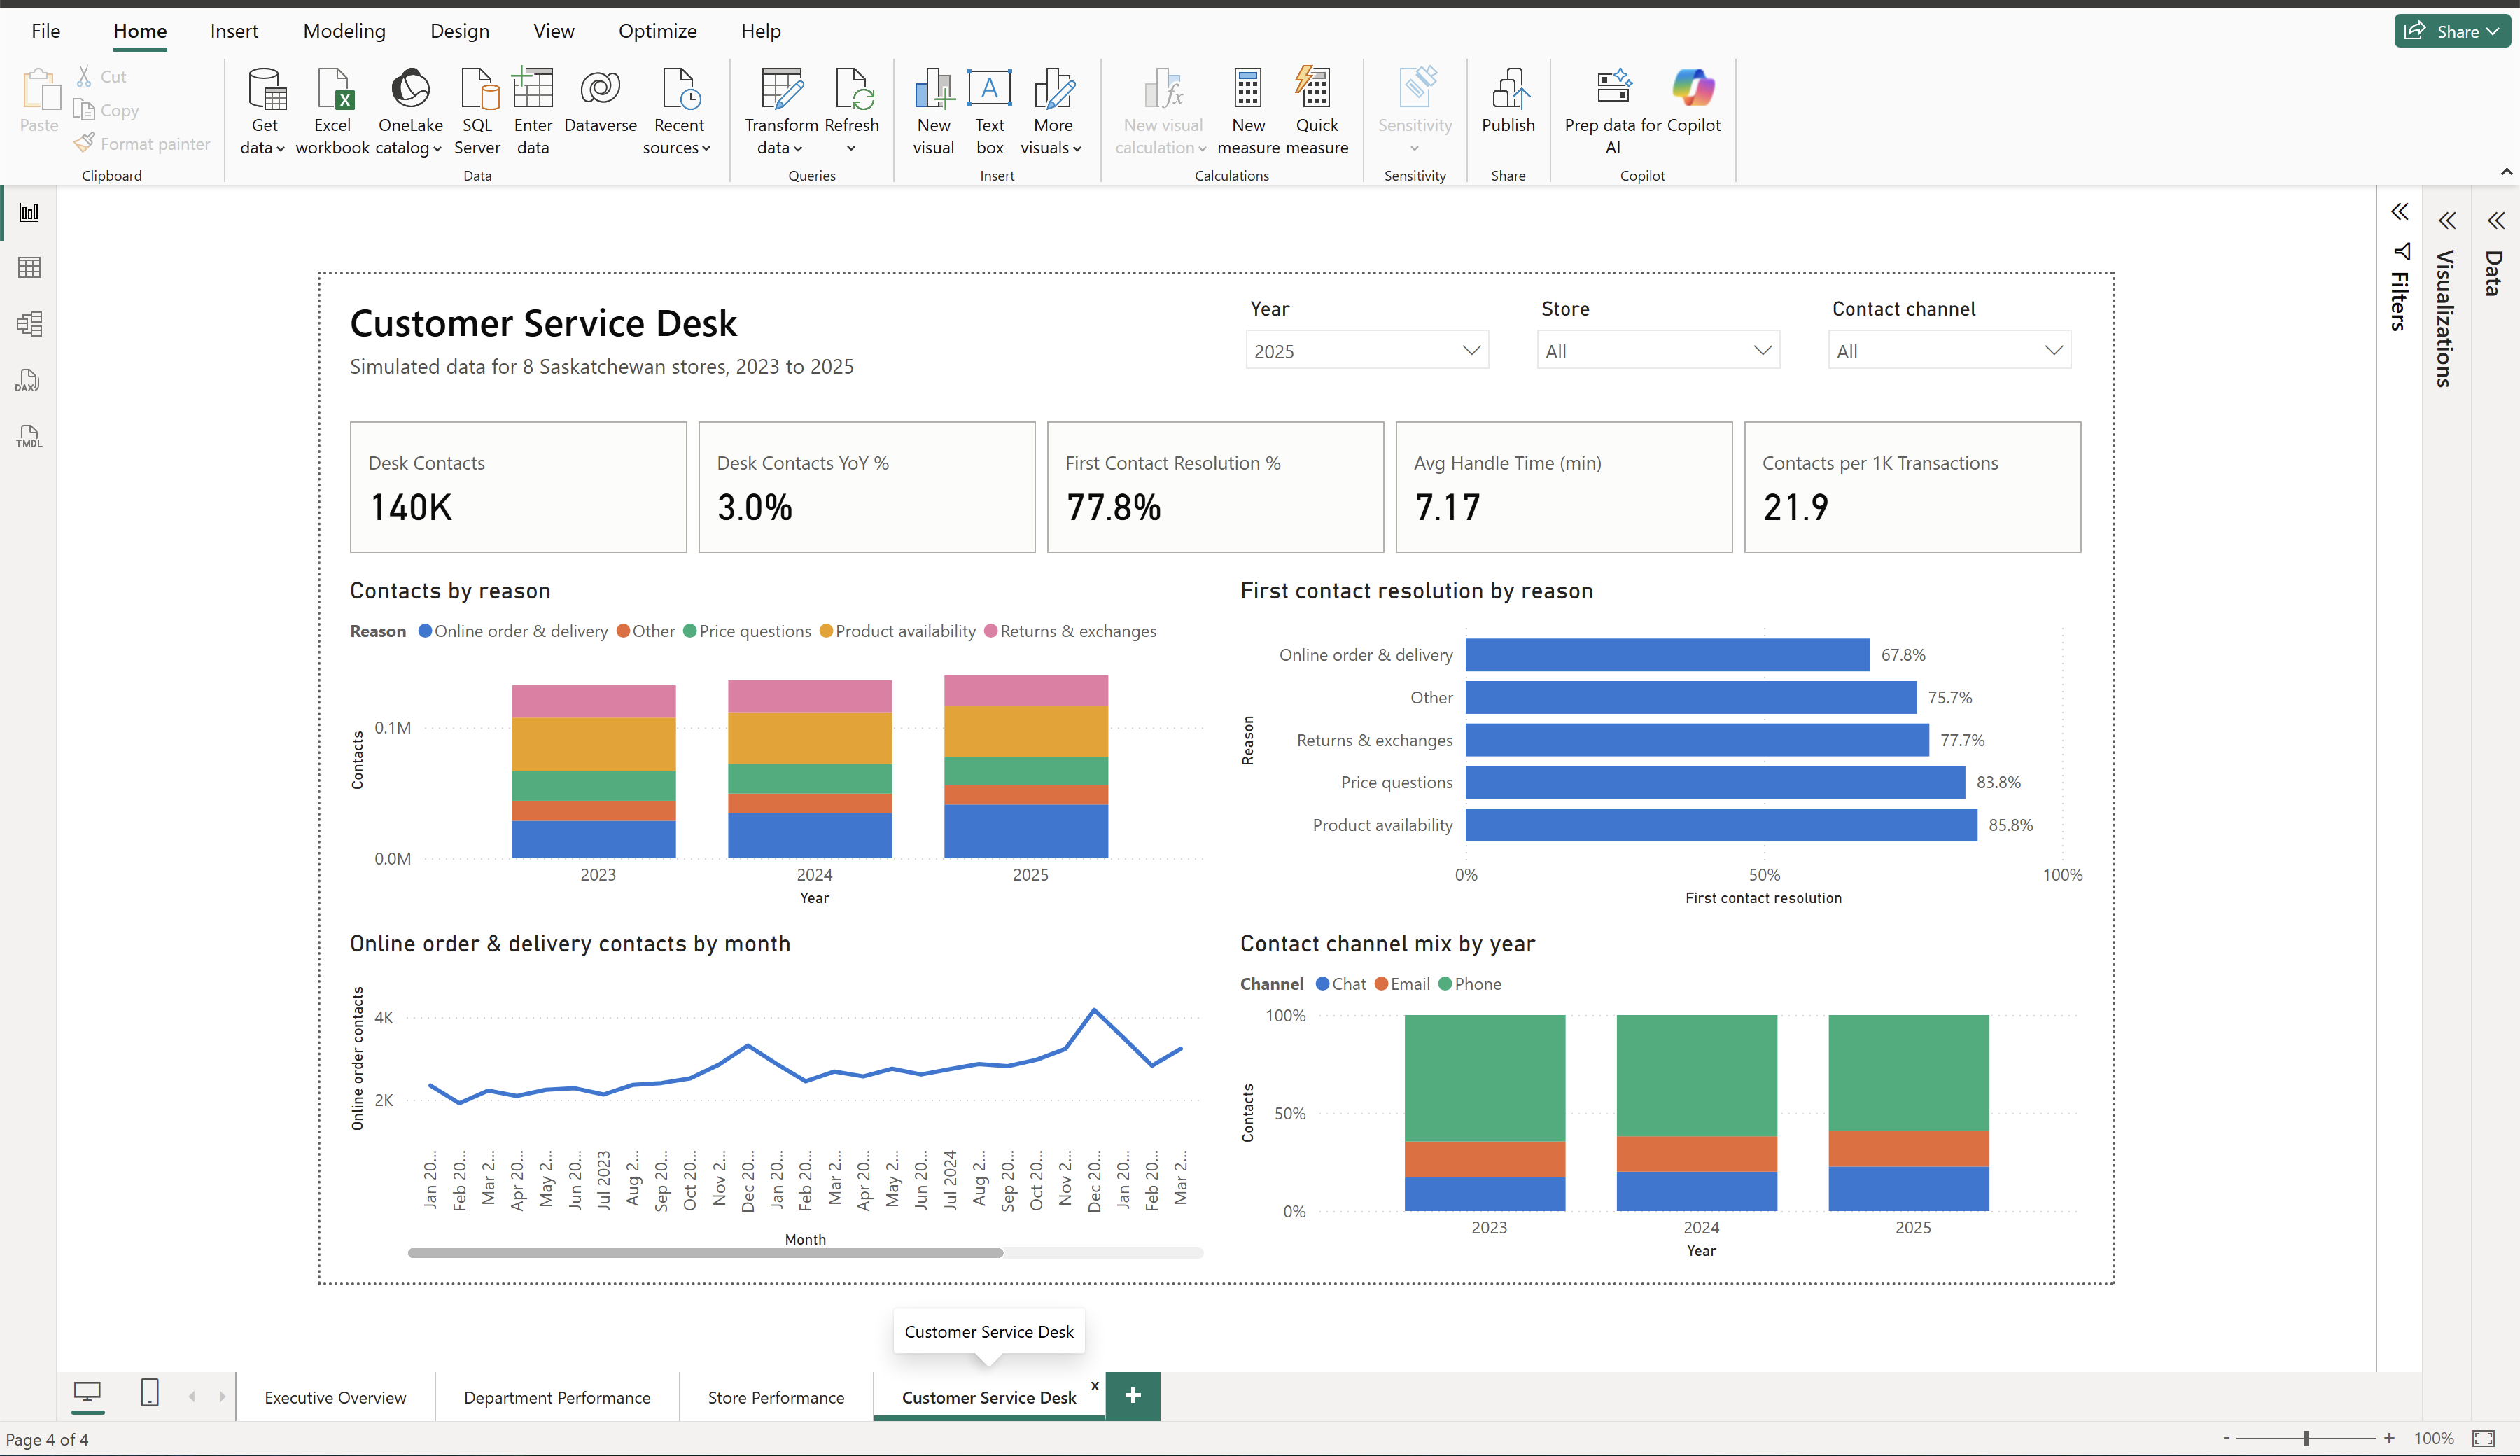

This screenshot's page, from the dashboard's own definition file:
{"tool":"powerbi","page":{"name":"Customer Service Desk","canvas":[1280,720],"ordinal":3},"visuals":[{"type":"textbox","box":[16.3,10.3,600,58.3],"z":1000},{"type":"textbox","box":[16.3,49.7,600,37.7],"z":2000},{"type":"slicer","fields":{"Values":["dim_date.year"]},"box":[648,8,200,80],"z":3000},{"type":"slicer","fields":{"Values":["dim_store.store_name"]},"box":[856,8,200,80],"z":4000},{"type":"slicer","fields":{"Values":["fact_service_desk.contact_channel"]},"box":[1064,8,200,80],"z":5000},{"type":"cardVisual","fields":{"Data":["_Measures.Desk Contacts","_Measures.Desk Contacts YoY %","_Measures.First Contact Resolution %","_Measures.Avg Handle Time (min)","_Measures.Contacts per 1K Transactions"]},"box":[16,100,1248,104],"z":6000},{"type":"columnChart","title":"Contacts by reason","fields":{"Category":["dim_date.year"],"Series":["fact_service_desk.contact_reason"],"Y":["_Measures.Desk Contacts"]},"box":[16,216,620,240],"z":7000},{"type":"clusteredBarChart","title":"First contact resolution by reason","fields":{"Category":["fact_service_desk.contact_reason"],"Y":["_Measures.First Contact Resolution %"]},"box":[652,216,612,240],"z":8000},{"type":"lineChart","title":"Online order & delivery contacts by month","fields":{"Category":["dim_date.month_year"],"Y":["_Measures.Online Order Contacts"]},"box":[16,468,620,240],"z":9000},{"type":"hundredPercentStackedColumnChart","title":"Contact channel mix by year","fields":{"Category":["dim_date.year"],"Series":["fact_service_desk.contact_channel"],"Y":["_Measures.Desk Contacts"]},"box":[652,468,612,240],"z":10000}]}

Visuals, with their boxes on the page's 1280x720 design canvas (x1, y1, x2, y2). These are canvas units, not pixel positions in the 2520x1456 screenshot, which may show the page scaled, cropped or inside an application window:
textbox: [16,10,616,69]
textbox: [16,50,616,87]
slicer - dim_date.year: [648,8,848,88]
slicer - dim_store.store_name: [856,8,1056,88]
slicer - fact_service_desk.contact_channel: [1064,8,1264,88]
cardVisual - _Measures.Desk Contacts x _Measures.Desk Contacts YoY %: [16,100,1264,204]
"Contacts by reason" columnChart: [16,216,636,456]
"First contact resolution by reason" clusteredBarChart: [652,216,1264,456]
"Online order & delivery contacts by month" lineChart: [16,468,636,708]
"Contact channel mix by year" hundredPercentStackedColumnChart: [652,468,1264,708]
